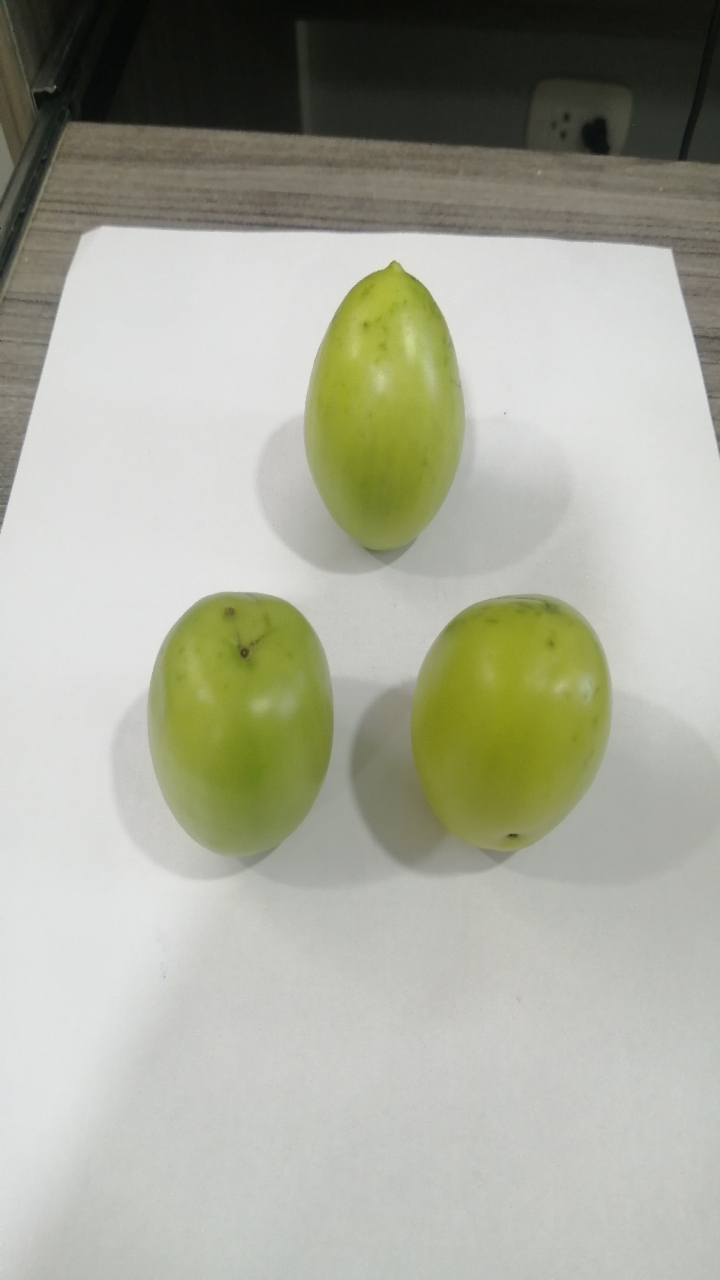tomateVerde: (384, 575, 623, 880), (129, 577, 348, 872), (306, 240, 471, 560)
